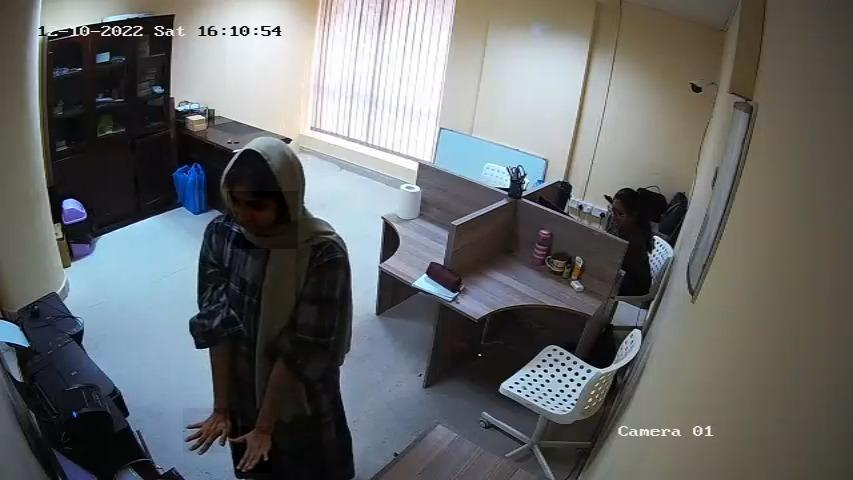no_apron: (184, 408, 228, 453), (233, 426, 272, 473)
no_gloves: (222, 125, 309, 186)
no_hairnet: (228, 191, 298, 249)
